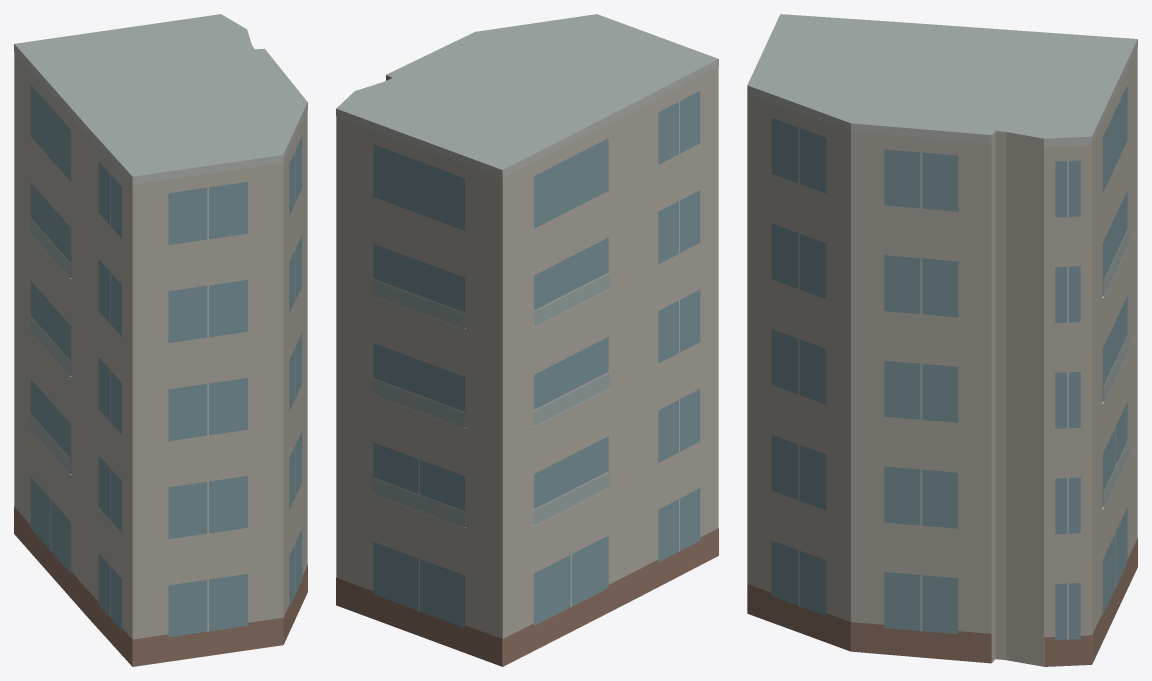
The model's file is survey-upis-32461063.glb.
3 renders of one model, left to right at view 1: azimuth 30°, elevation 25°; view 2: azimuth 150°, elevation 25°; view 3: azimuth 270°, elevation 25°, orthographic. The views are drawn at different scales.
Parts seen in each view (by area): view 1: survey-upis-32461063.tmp; view 2: survey-upis-32461063.tmp; view 3: survey-upis-32461063.tmp.
Part boxes in pixels (x1,y1,x2,y2): survey-upis-32461063.tmp: (14,14,307,666); survey-upis-32461063.tmp: (336,14,718,666); survey-upis-32461063.tmp: (747,14,1137,666).
Bounding box in the file's own units: 7.8 × 15.4 × 10.33.
